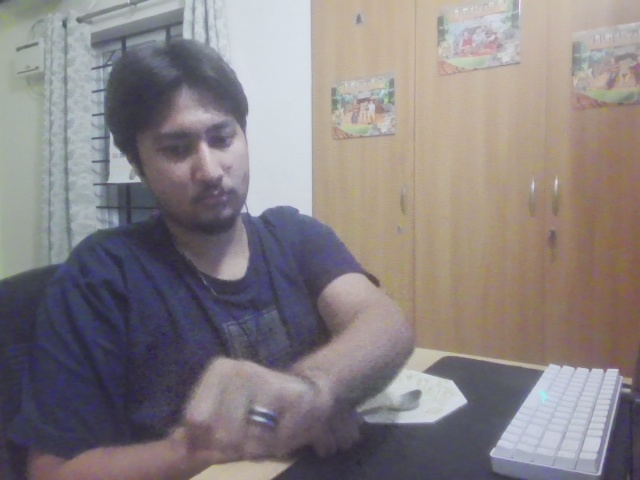yes: (168, 351, 336, 474)
